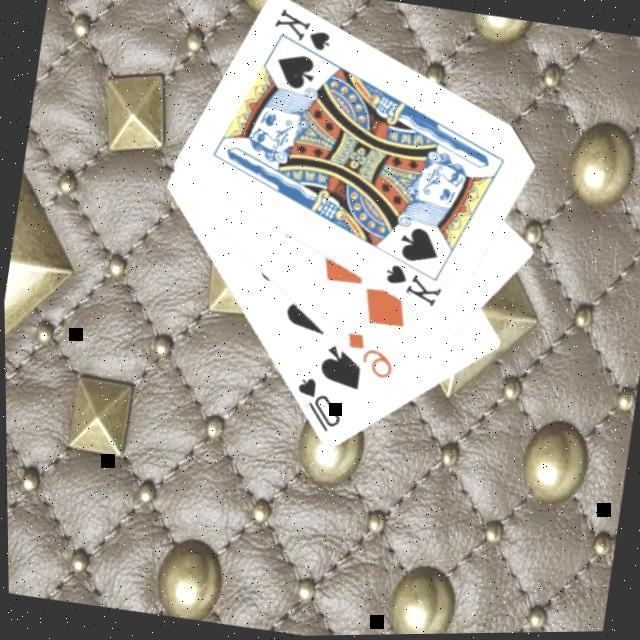10S: (284, 372, 348, 438)
9D: (334, 328, 398, 384)
KS: (264, 4, 336, 66), (375, 260, 446, 314)
